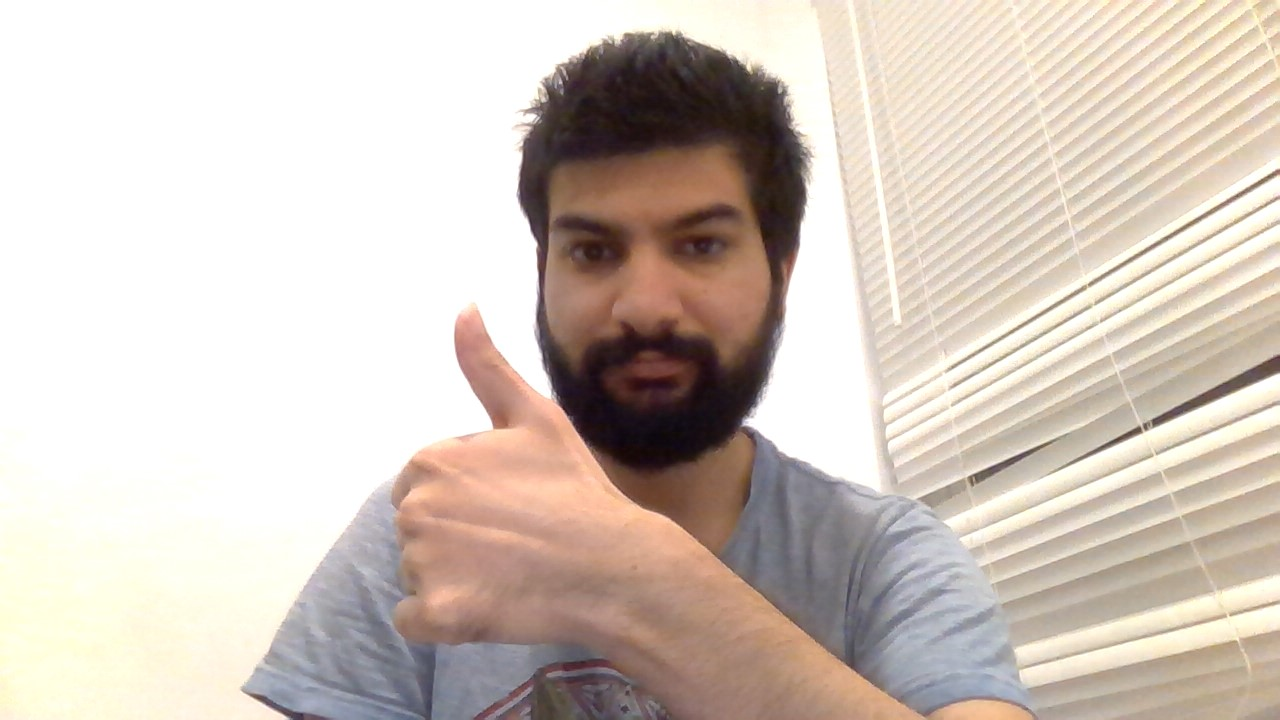up: (354, 293, 626, 651)
